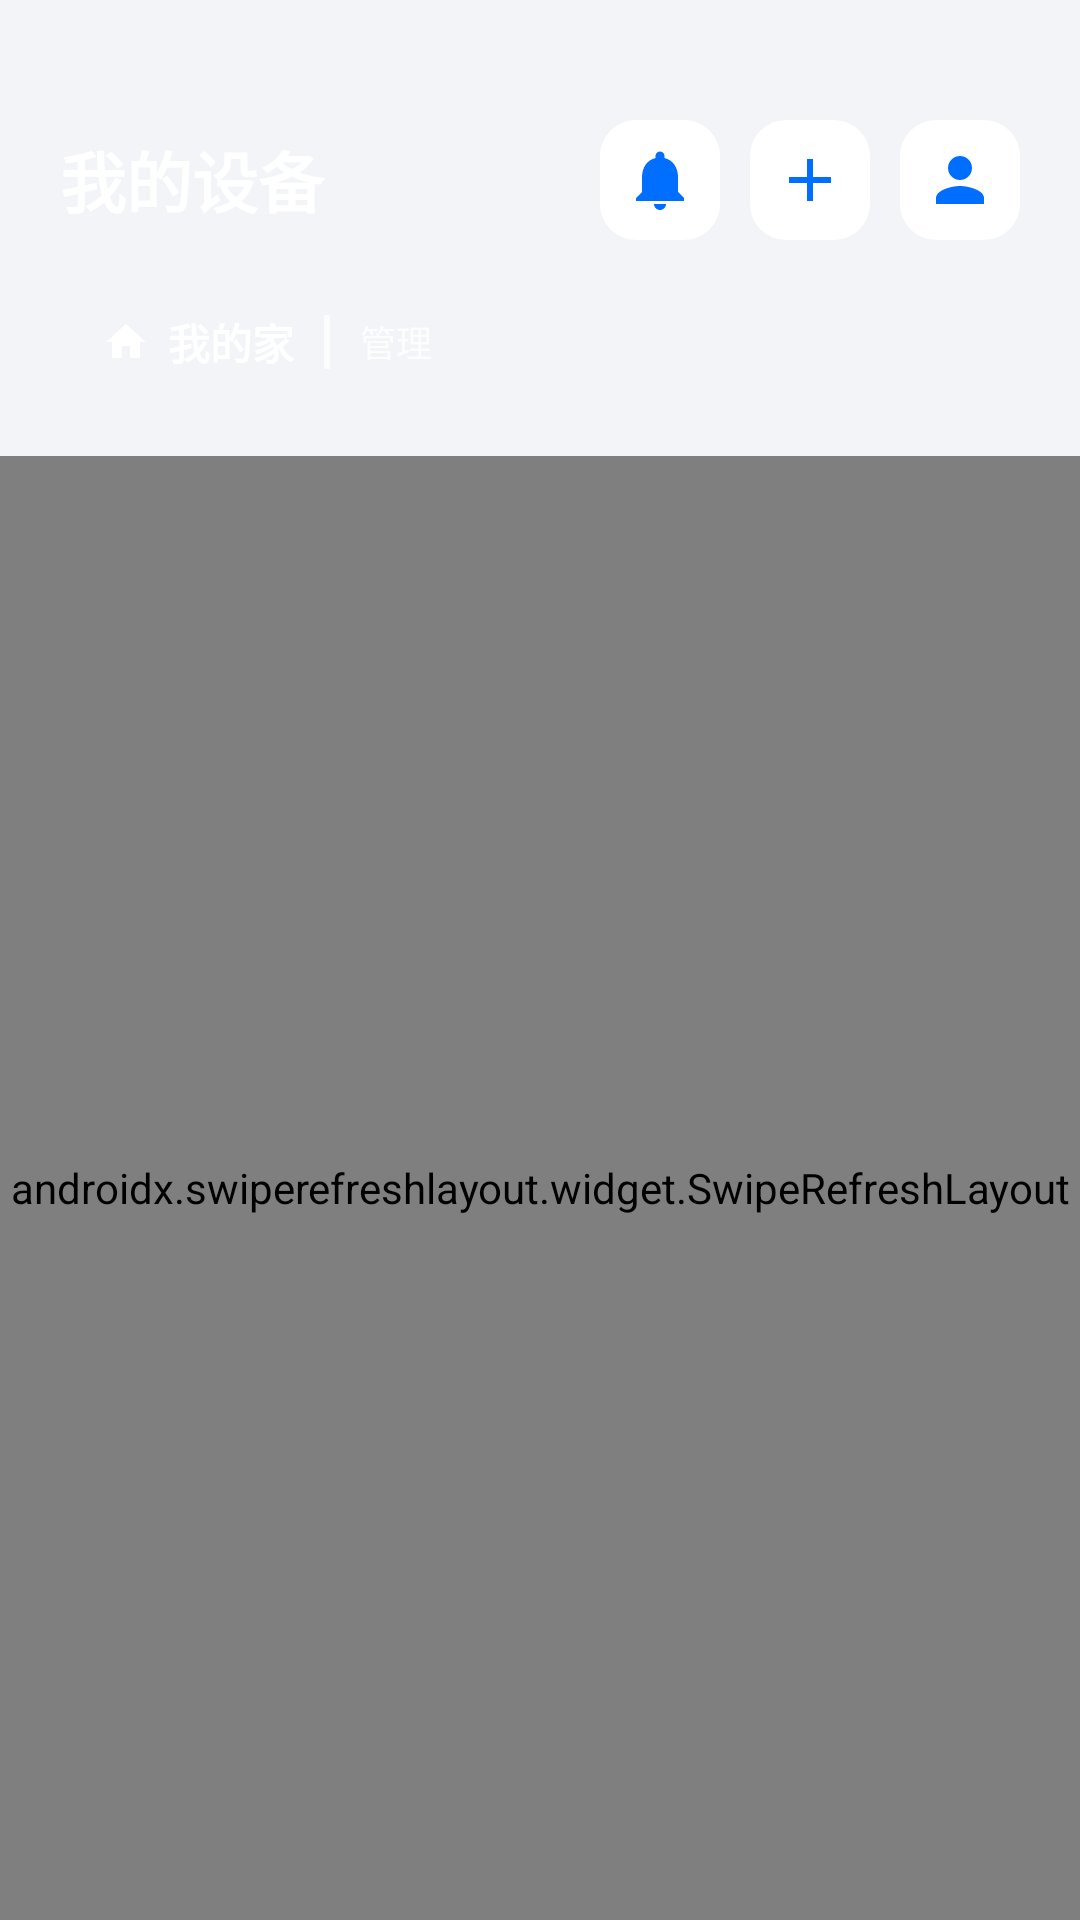

Icons on this 1080 x 1920 Android screen, each with the point to tap as (x,y):
消息中心: (660,180)
添加设备: (810,180)
用户信息: (960,180)
